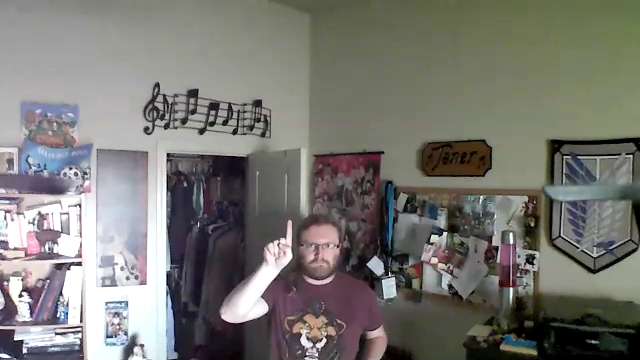up: (261, 219, 294, 269)
